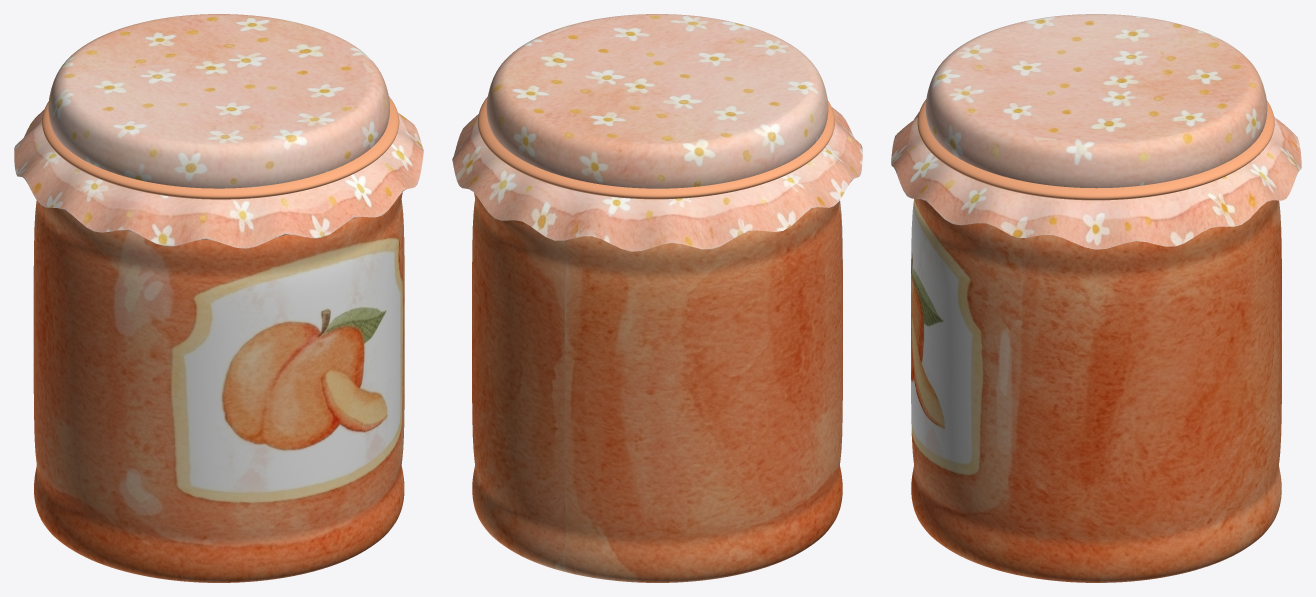
File: JamJar(Fixed2).fbx
3 views of the same model, side by side, from view 1: azimuth 30°, elevation 25°; view 2: azimuth 150°, elevation 25°; view 3: azimuth 270°, elevation 25° (orthographic).
Visible parts, largest first — view 1: Cylinder; view 2: Cylinder; view 3: Cylinder.
Boxes of the visible parts, x1,y1,x2,y2 form: Cylinder: [14, 14, 423, 582]; Cylinder: [452, 14, 862, 582]; Cylinder: [891, 14, 1301, 582].
Size of the model in its own units: 1.68 by 1.98 by 1.68.
Materials: 2 (1 with a texture image).
